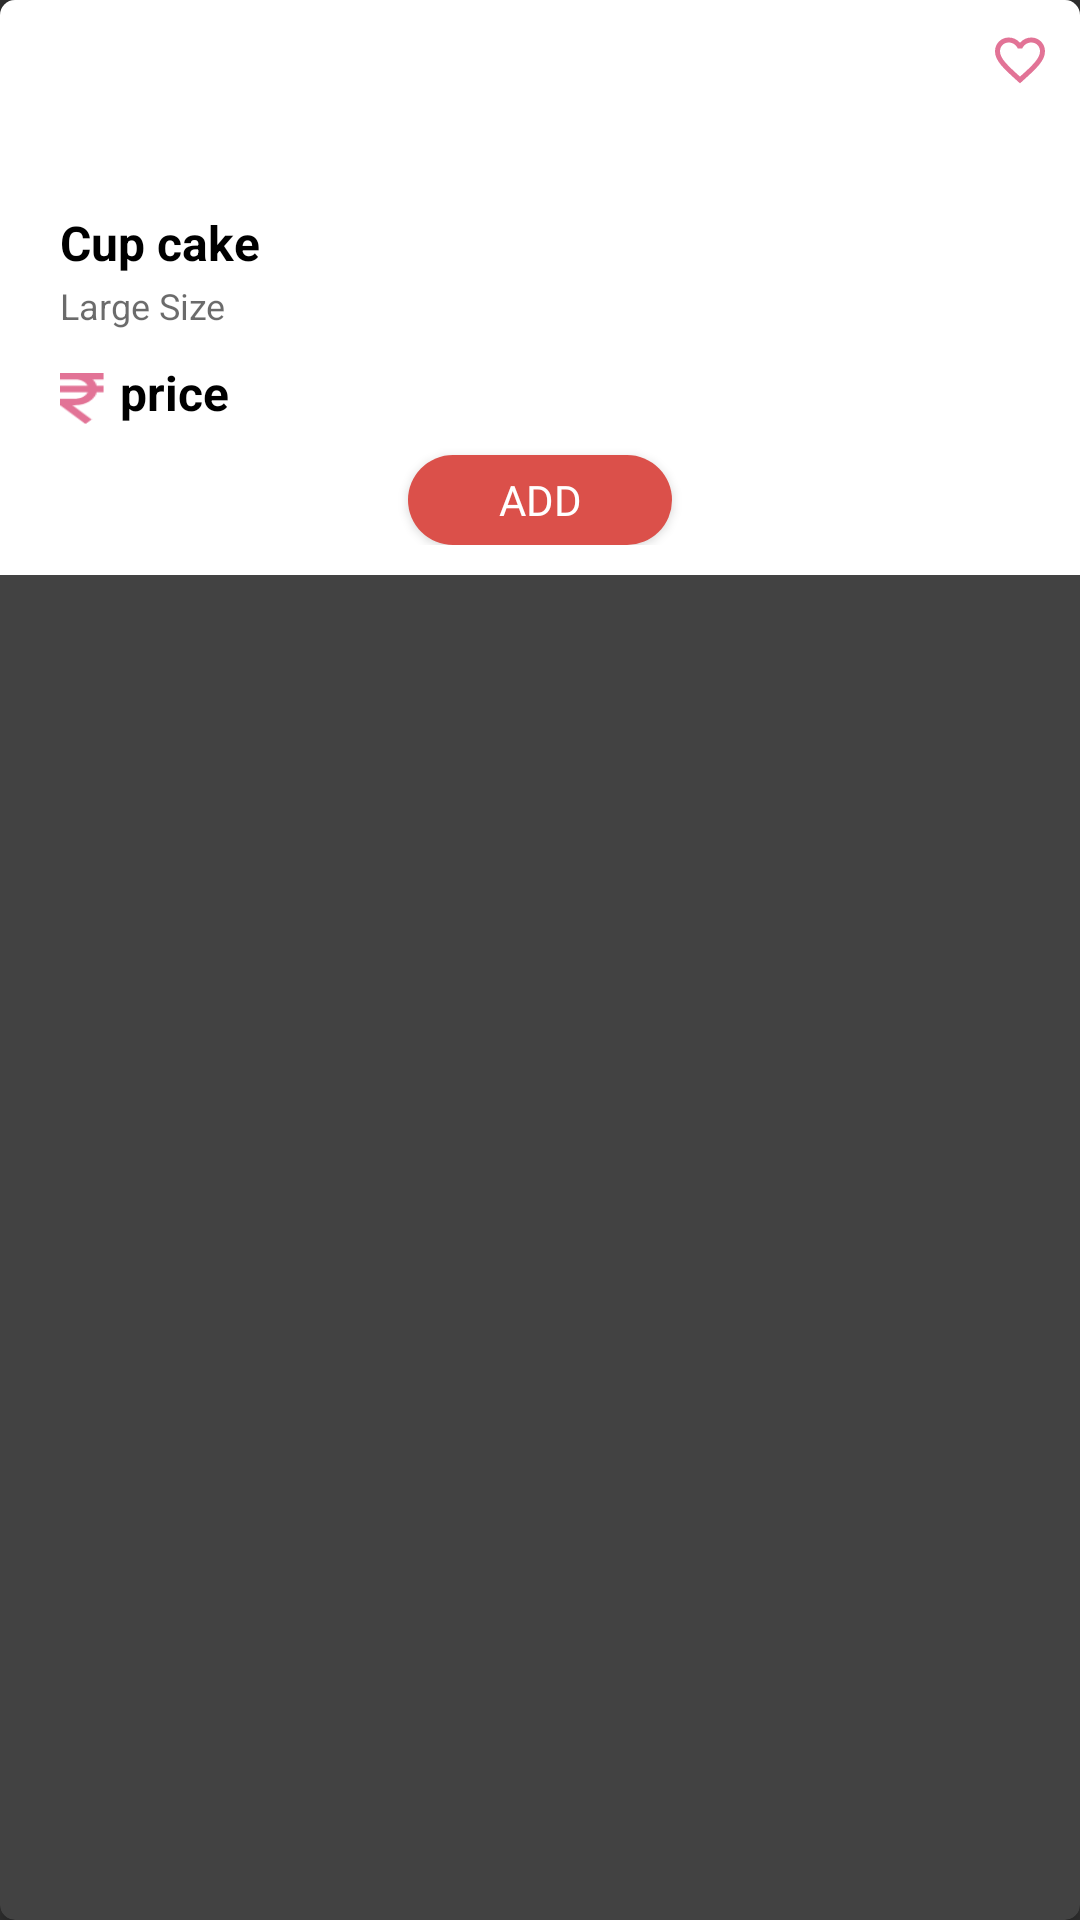

Where to tap for icons on this 1080 × 1920 app screen, as (x=x, y=y):
favorite border: (x=1020, y=60)
rupee: (x=82, y=398)
